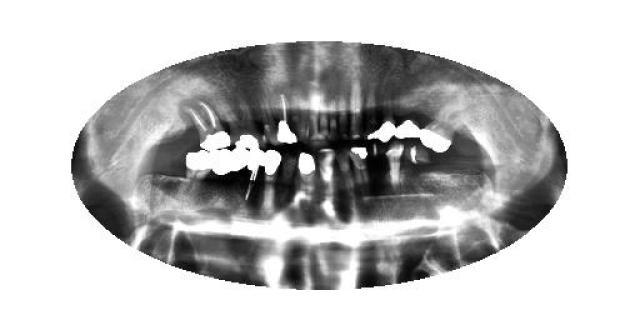Fillings: (221, 98, 261, 148), (421, 108, 464, 152), (180, 150, 214, 195), (348, 146, 372, 204), (377, 96, 395, 144), (264, 146, 280, 200), (299, 152, 316, 196), (365, 84, 377, 141), (395, 118, 421, 140), (211, 149, 230, 179), (230, 149, 248, 175)
Implant: (185, 102, 229, 150), (241, 149, 264, 206), (276, 94, 298, 145)
